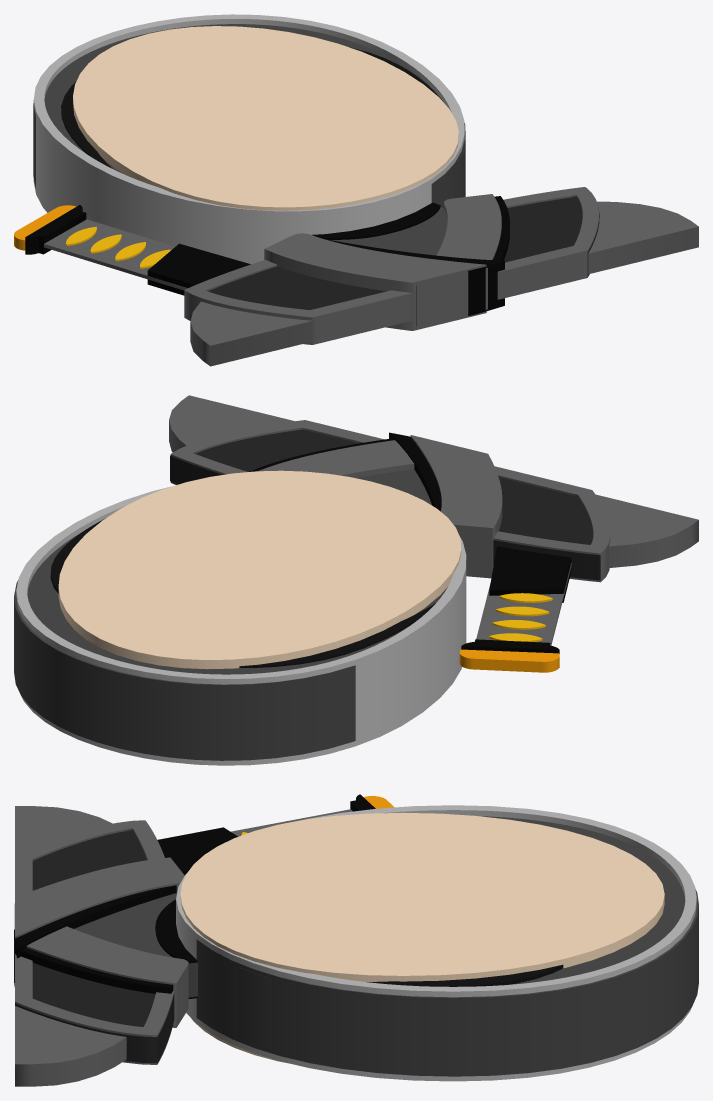
The model's file is emoji_u1f977_1f3fb.glb.
The picture shows the model from 3 angles, top to bottom: view 1: azimuth 30°, elevation 25°; view 2: azimuth 150°, elevation 25°; view 3: azimuth 270°, elevation 25°; orthographic projection. The views are drawn at different scales.
Parts seen in each view (by area): view 1: emoji_u1f977_1f3fb; view 2: emoji_u1f977_1f3fb; view 3: emoji_u1f977_1f3fb.
Part boxes in pixels (bbox=[...]): emoji_u1f977_1f3fb: bbox=[14, 14, 698, 366]; emoji_u1f977_1f3fb: bbox=[14, 395, 698, 765]; emoji_u1f977_1f3fb: bbox=[14, 794, 698, 1086].
Size of the model in its own units: 0.0314 by 0.0052 by 0.0332.
